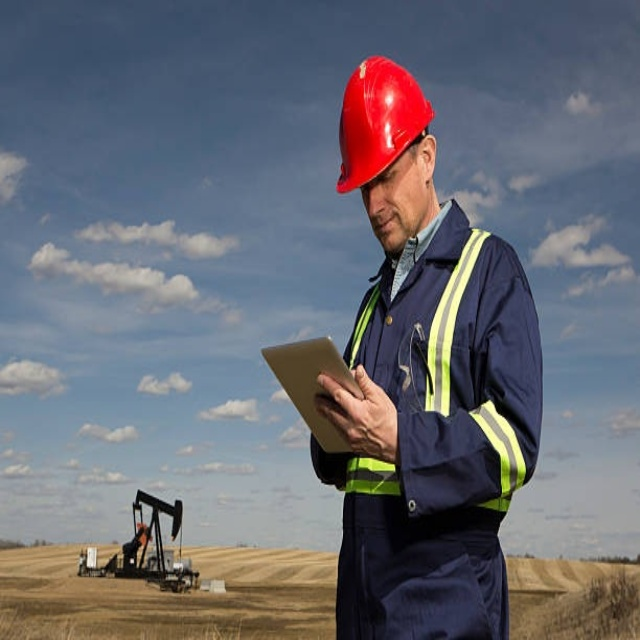Sin_gafas: (359, 163, 401, 201)
Sin_guantes: (314, 366, 398, 462)
Sin_mascara: (366, 209, 406, 246)
